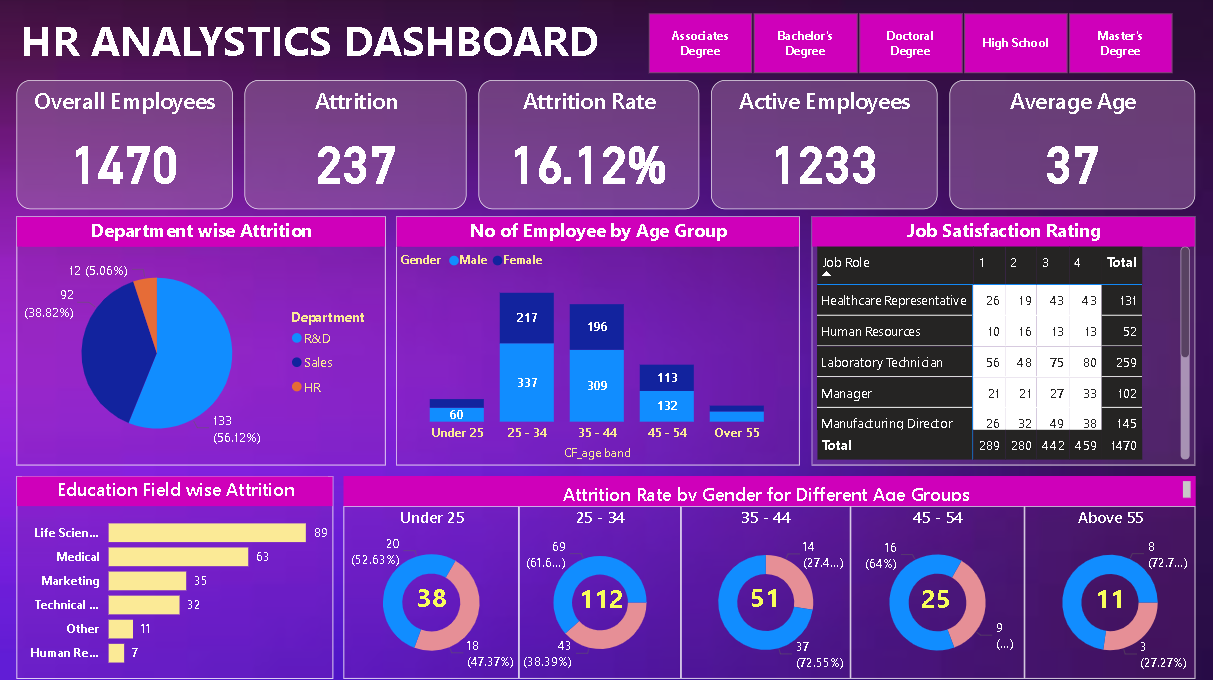

The dashboard page shown, as its layout file describes it:
{"tool":"powerbi","page":{"name":"Page 1","canvas":[1280,720],"ordinal":0},"visuals":[{"type":"card","title":"Overall Employees","fields":{"Values":["Sum(HR Data xlsx - HR data.Employee Count)"]},"box":[26.6,87.5,225.1,134.4],"z":0},{"type":"card","title":"Attrition","fields":{"Values":["Sum(HR Data xlsx - HR data.Attrition Count)"]},"box":[264.1,87.5,231.3,134.4],"z":1000},{"type":"card","title":"Attrition Rate","fields":{"Values":["HR Data xlsx - HR data.Attrition Rate"]},"box":[508,87.5,229.8,134.4],"z":2000},{"type":"card","title":"Active Employees","fields":{"Values":["HR Data xlsx - HR data.Active Employee"]},"box":[750.2,87.5,236,134.4],"z":3000},{"type":"card","title":"Average Age","fields":{"Values":["Avg(HR Data xlsx - HR data.Age)"]},"box":[998.7,87.5,256.3,134.4],"z":4000},{"type":"pieChart","title":"Department wise Attrition","fields":{"Category":["HR Data xlsx - HR data.Department"],"Y":["Sum(HR Data xlsx - HR data.Attrition Count)"]},"box":[26.6,229.8,384.5,259.5],"z":5000},{"type":"columnChart","title":"No of Employee by Age Group","fields":{"Category":["HR Data xlsx - HR data.CF_age band"],"Y":["Sum(HR Data xlsx - HR data.Employee Count)"],"Series":["HR Data xlsx - HR data.Gender"]},"box":[422,229.8,420.4,259.5],"z":6000},{"type":"pivotTable","title":"Job Satisfaction Rating","fields":{"Rows":["HR Data xlsx - HR data.Job Role"],"Values":["Sum(HR Data xlsx - HR data.Employee Count)"],"Columns":["HR Data xlsx - HR data.Job Satisfaction"]},"box":[855,229.8,400,259.5],"z":7000},{"type":"barChart","title":"Education Field wise Attrition","fields":{"Y":["Sum(HR Data xlsx - HR data.Attrition Count)"],"Category":["HR Data xlsx - HR data.Education Field"]},"box":[26.6,500.2,329.8,211],"z":8000},{"type":"donutChart","title":"Under 25","fields":{"Category":["HR Data xlsx - HR data.Gender"],"Y":["Sum(HR Data xlsx - HR data.Attrition Count)"],"Series":["HR Data xlsx - HR data.CF_age band"]},"box":[367.3,531.4,182.9,179.7],"z":9000},{"type":"textbox","box":[367.3,500.2,887.8,31.3],"z":10000},{"type":"donutChart","title":"25 - 34","fields":{"Category":["HR Data xlsx - HR data.Gender"],"Y":["Sum(HR Data xlsx - HR data.Attrition Count)"],"Series":["HR Data xlsx - HR data.CF_age band"]},"box":[550.2,531.4,168.8,179.7],"z":11000},{"type":"donutChart","title":"35 - 44","fields":{"Category":["HR Data xlsx - HR data.Gender"],"Y":["Sum(HR Data xlsx - HR data.Attrition Count)"],"Series":["HR Data xlsx - HR data.CF_age band"]},"box":[719,531.4,176.6,179.7],"z":12000},{"type":"donutChart","title":"45 - 54","fields":{"Category":["HR Data xlsx - HR data.Gender"],"Y":["Sum(HR Data xlsx - HR data.Attrition Count)"],"Series":["HR Data xlsx - HR data.CF_age band"]},"box":[895.6,531.4,181.3,179.7],"z":13000},{"type":"donutChart","title":"Above 55","fields":{"Category":["HR Data xlsx - HR data.Gender"],"Y":["Sum(HR Data xlsx - HR data.Attrition Count)"],"Series":["HR Data xlsx - HR data.CF_age band"]},"box":[1076.9,531.4,178.2,179.7],"z":14000},{"type":"card","fields":{"Values":["Sum(HR Data xlsx - HR data.Attrition Count)"]},"box":[421.4,595.3,73.7,62.4],"z":15000},{"type":"card","fields":{"Values":["Sum(HR Data xlsx - HR data.Attrition Count)"]},"box":[599.1,597.2,73.7,62.4],"z":16000},{"type":"card","fields":{"Values":["Sum(HR Data xlsx - HR data.Attrition Count)"]},"box":[769.1,595.3,73.7,62.4],"z":17000},{"type":"card","fields":{"Values":["Sum(HR Data xlsx - HR data.Attrition Count)"]},"box":[946.8,597.2,73.7,62.4],"z":18000},{"type":"card","fields":{"Values":["Sum(HR Data xlsx - HR data.Attrition Count)"]},"box":[1128.2,597.2,73.7,62.4],"z":19000},{"type":"textbox","box":[26.6,10.9,633,76.6],"z":20000},{"type":"slicer","fields":{"Values":["HR Data xlsx - HR data.Education"]},"box":[659.6,10.9,595.5,76.6],"z":21000}]}

Visuals, with their boxes in screenshot pixels (x1, y1, x2, y2), scaled from the page's 1280x720 canvas onto the 1213x680 screenshot:
"Overall Employees" card: bbox=(25, 83, 239, 210)
"Attrition" card: bbox=(250, 83, 469, 210)
"Attrition Rate" card: bbox=(481, 83, 699, 210)
"Active Employees" card: bbox=(711, 83, 935, 210)
"Average Age" card: bbox=(946, 83, 1189, 210)
"Department wise Attrition" pieChart: bbox=(25, 217, 390, 462)
"No of Employee by Age Group" columnChart: bbox=(400, 217, 798, 462)
"Job Satisfaction Rating" pivotTable: bbox=(810, 217, 1189, 462)
"Education Field wise Attrition" barChart: bbox=(25, 472, 338, 672)
"Under 25" donutChart: bbox=(348, 502, 521, 672)
textbox: bbox=(348, 472, 1189, 502)
"25 - 34" donutChart: bbox=(521, 502, 681, 672)
"35 - 44" donutChart: bbox=(681, 502, 849, 672)
"45 - 54" donutChart: bbox=(849, 502, 1021, 672)
"Above 55" donutChart: bbox=(1021, 502, 1189, 672)
card - Sum(HR Data xlsx - HR data.Attrition Count): bbox=(399, 562, 469, 621)
card - Sum(HR Data xlsx - HR data.Attrition Count): bbox=(568, 564, 638, 623)
card - Sum(HR Data xlsx - HR data.Attrition Count): bbox=(729, 562, 799, 621)
card - Sum(HR Data xlsx - HR data.Attrition Count): bbox=(897, 564, 967, 623)
card - Sum(HR Data xlsx - HR data.Attrition Count): bbox=(1069, 564, 1139, 623)
textbox: bbox=(25, 10, 625, 83)
slicer - HR Data xlsx - HR data.Education: bbox=(625, 10, 1189, 83)
